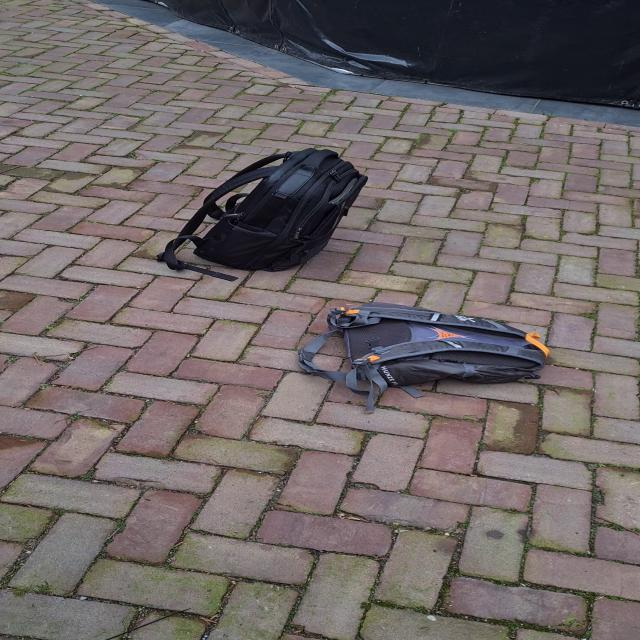backpack: (169, 147, 373, 280), (288, 303, 554, 398)
